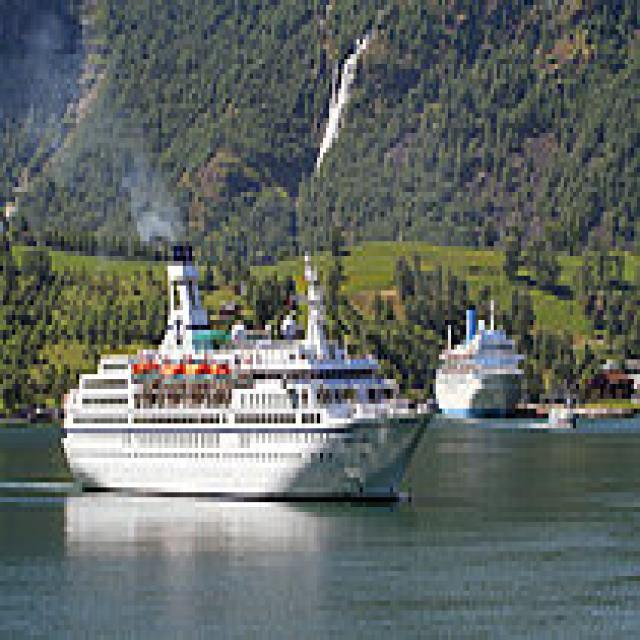Ship: (44, 242, 447, 528), (428, 297, 535, 435)
